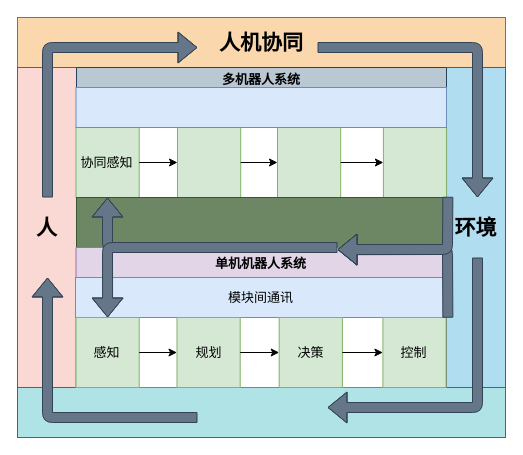
This 523x455 diagram has some shape labels left out. The centre of each missing label's shape, as x and y in pixels:
协同决策: the point at 308,162
协同控制: the point at 414,162
协同规划: the point at 208,162
智能机器人系统: the point at 261,222
机器人间通讯: the point at 260,107
装备保障: the point at 261,412
